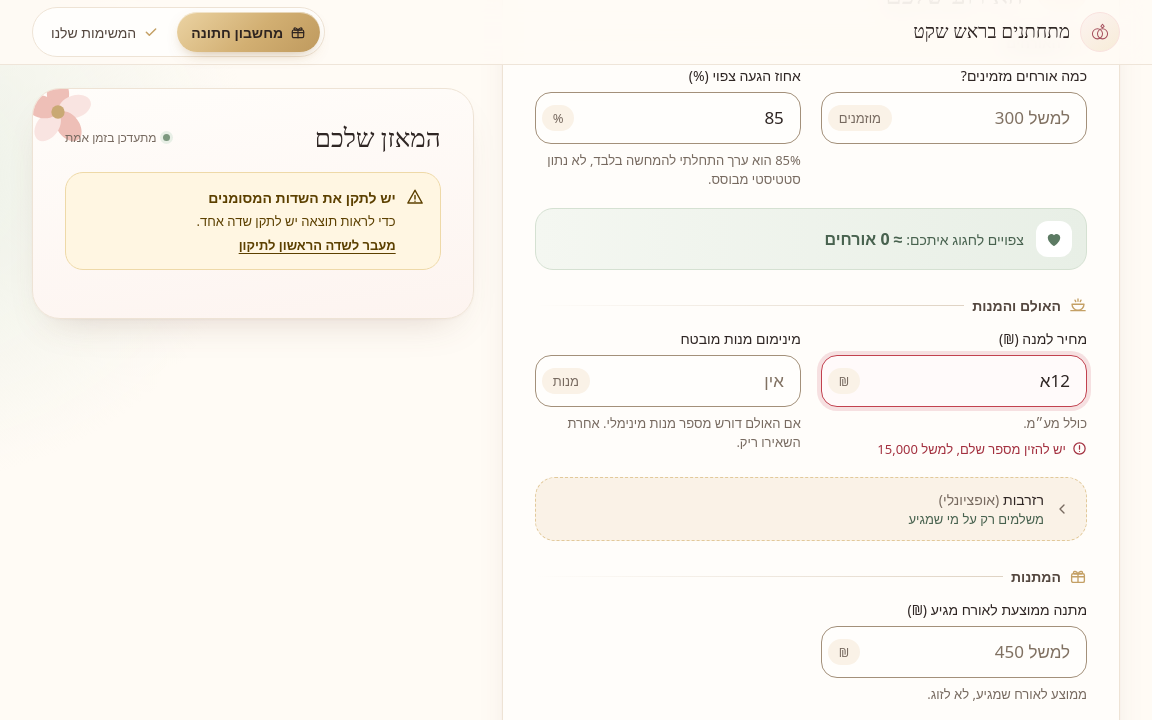
Event details form › shows a field error for invalid input and clears it once fixed
Earlier steps of the test are not shown.
(page scrolled)
Replace the text in the field labelled "מחיר למנה (₪)" with "350" at x=973, y=381, box [860, 358, 1086, 404]
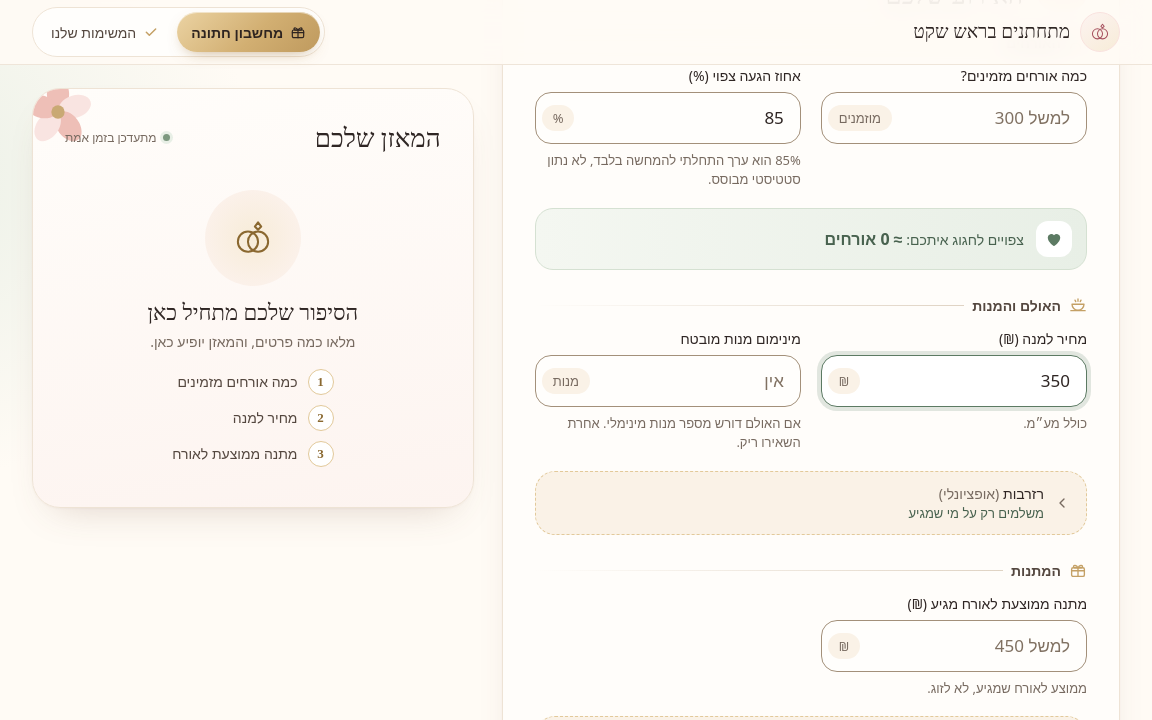
Expected: the text "יש להזין מספר שלם" is not shown
Result: the field labelled "מחיר למנה (₪)" does not have attribute aria-invalid at [860, 358, 1086, 404]
